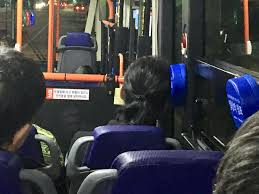seat: (86, 139, 217, 190)
